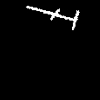double_crochet: (27, 6, 78, 29)
